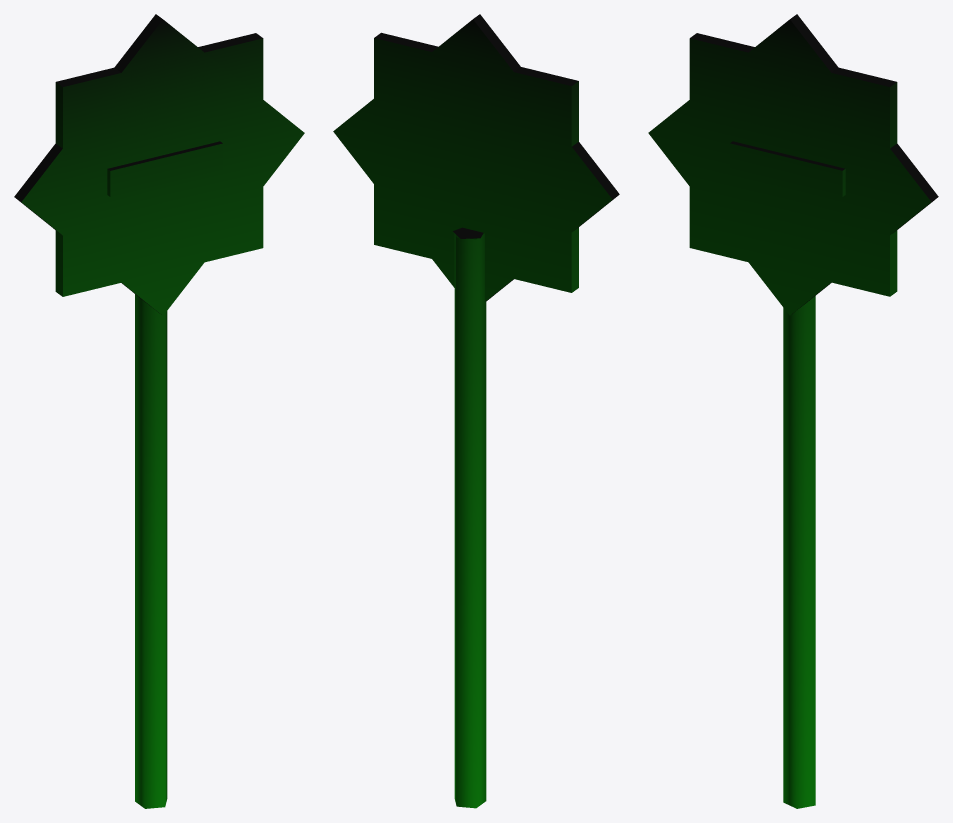
File: stopsign.glb
3 renders of one model, left to right at view 1: azimuth 30°, elevation 25°; view 2: azimuth 150°, elevation 25°; view 3: azimuth 330°, elevation 25°, orthographic.
Parts seen in each view (by area): view 1: lod0; view 2: lod0; view 3: lod0.
Boxes of the visible parts, <box> form: lod0: <box>14,14,304,808</box>; lod0: <box>333,14,619,808</box>; lod0: <box>648,14,938,808</box>.
Size of what is drawn, in the model's own units: 1.13 by 3.02 by 0.16.
